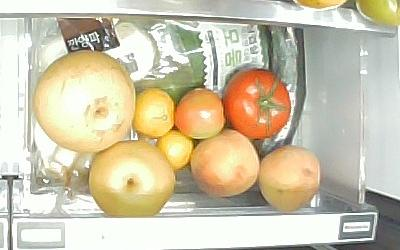peach: (189, 127, 261, 199), (258, 144, 322, 212)
pear: (32, 48, 137, 155), (87, 139, 177, 218)
tangerine: (133, 86, 176, 138), (155, 129, 195, 170)
tomato: (221, 66, 293, 140), (174, 87, 226, 140)
